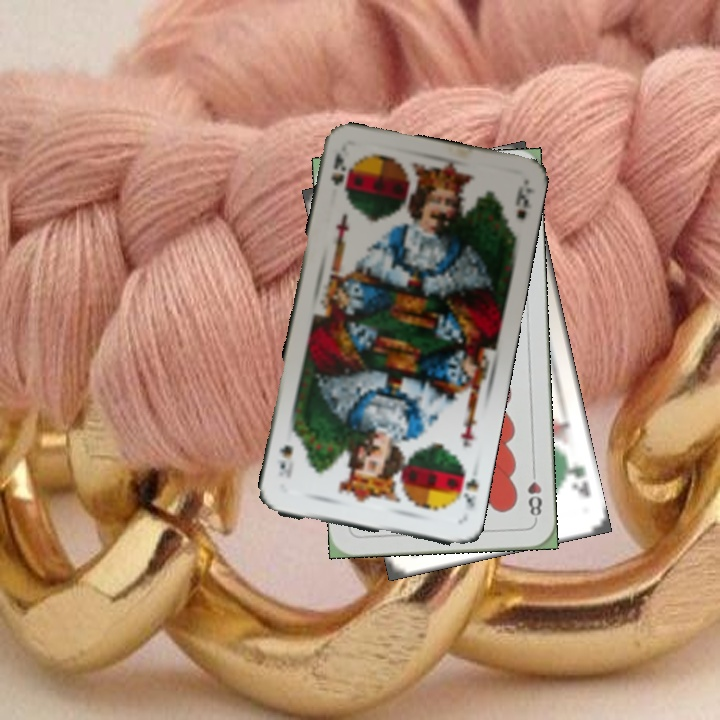GK: (562, 454, 594, 499)
H8: (524, 464, 544, 523)
SK: (451, 464, 481, 511), (327, 148, 352, 194)
